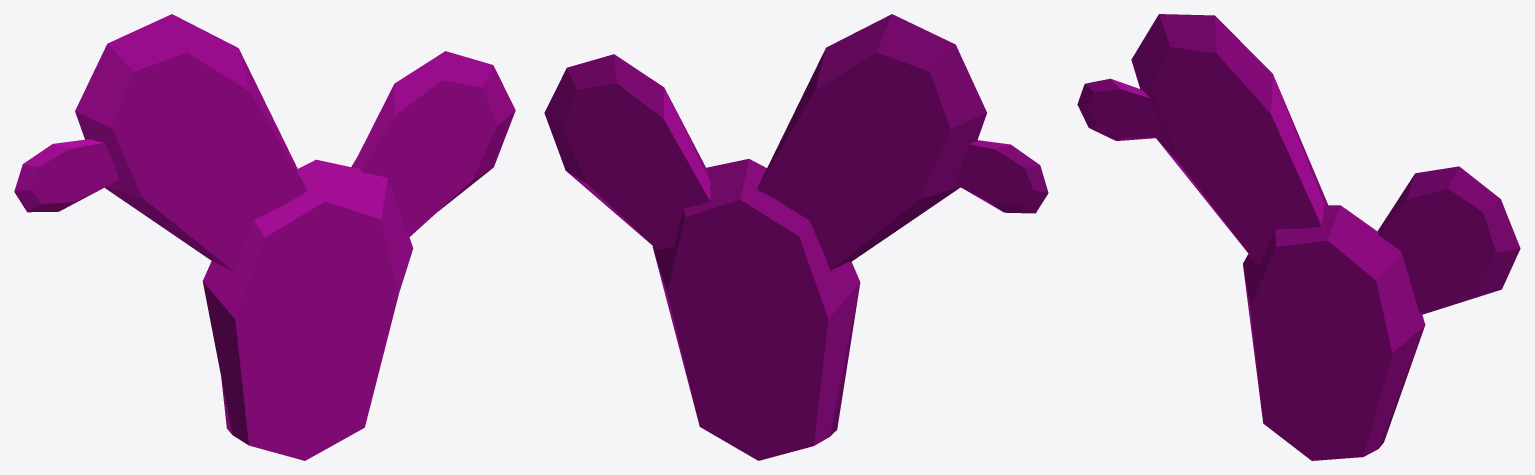
Rendered from Collider_Cactus_Flower_001.fbx.
3 views of the same model, side by side, from view 1: azimuth 30°, elevation 25°; view 2: azimuth 150°, elevation 25°; view 3: azimuth 330°, elevation 25° (orthographic). The views are drawn at different scales.
Parts seen in each view (by area): view 1: Collider_Cactus_Flower_001; view 2: Collider_Cactus_Flower_001; view 3: Collider_Cactus_Flower_001.
Part boxes in pixels (<box>): Collider_Cactus_Flower_001: <box>14,14,515,460</box>; Collider_Cactus_Flower_001: <box>544,14,1048,460</box>; Collider_Cactus_Flower_001: <box>1077,14,1520,460</box>.
Size of the model in its own units: 1.89 by 1.68 by 0.1591.
